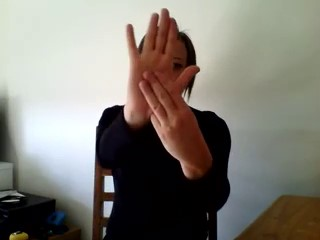M: (121, 5, 207, 178)
